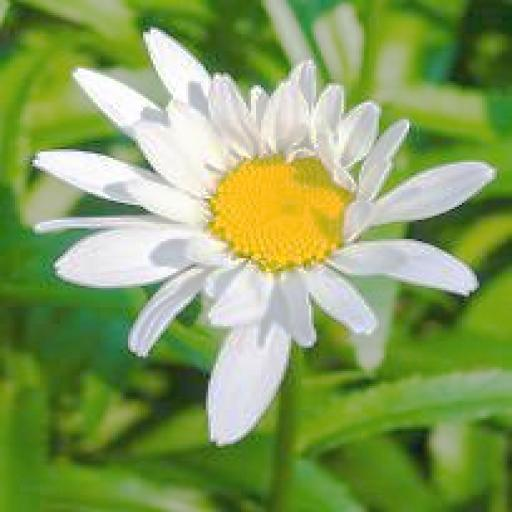daisy: (55, 41, 472, 420)
